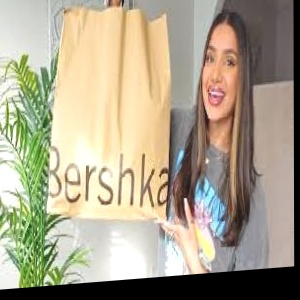bershka: (143, 46, 195, 219)
